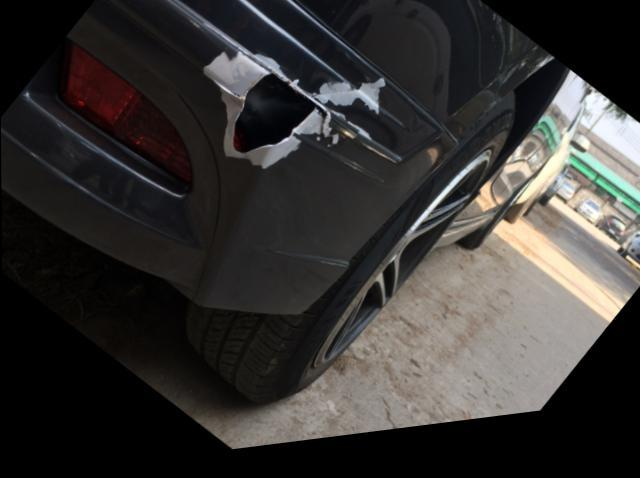crack: (230, 79, 333, 161)
